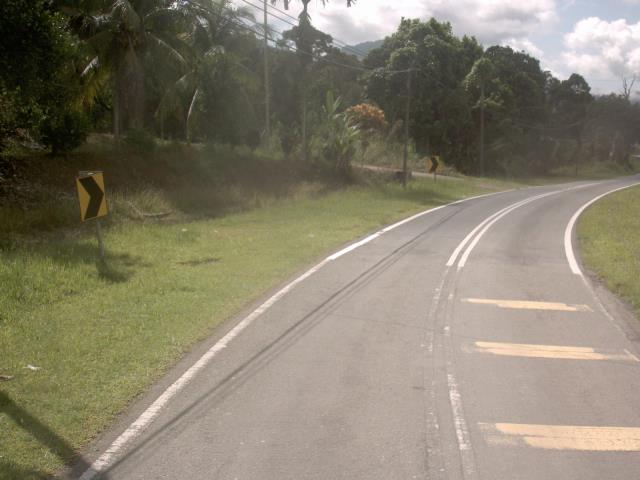traffic_sign: (67, 164, 116, 230)
